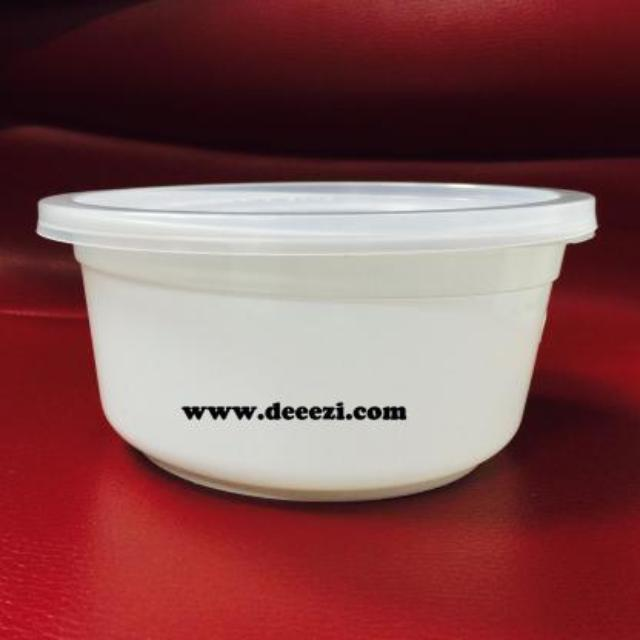plastic_box: (35, 185, 595, 498)
